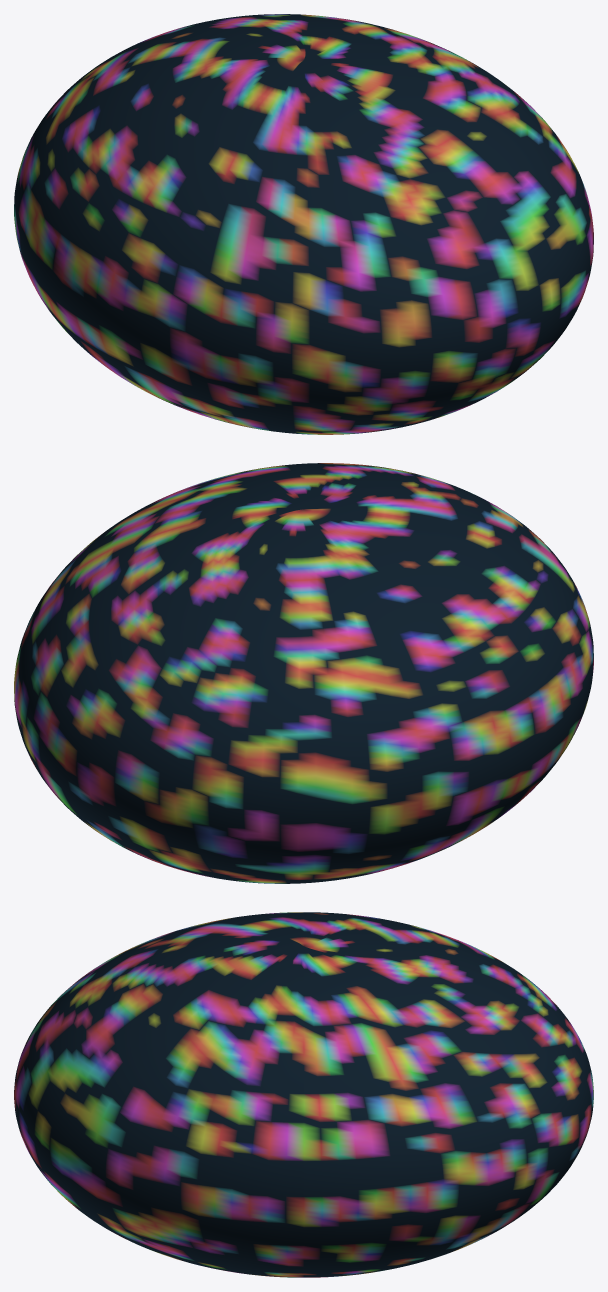
File: black-opal.glb
3 renders of one model, top to bottom at view 1: azimuth 30°, elevation 25°; view 2: azimuth 150°, elevation 25°; view 3: azimuth 270°, elevation 25°, orthographic. The views are drawn at different scales.
Visible parts, largest first — view 1: black-opal; view 2: black-opal; view 3: black-opal.
Boxes of the visible parts, left/top/right/bottom form: black-opal: left=14, top=14, right=593, bottom=434; black-opal: left=14, top=463, right=593, bottom=883; black-opal: left=14, top=912, right=593, bottom=1277.
Size of the model in its own units: 2.17 by 1.41 by 2.5.
